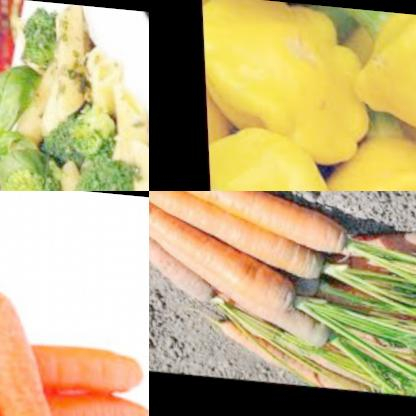broccoli: (34, 107, 112, 175), (13, 3, 61, 98), (67, 154, 141, 191), (0, 153, 57, 191)
carrot: (149, 191, 307, 314), (149, 191, 329, 283), (149, 191, 364, 258), (0, 313, 149, 400), (205, 315, 376, 387), (0, 262, 68, 416), (0, 356, 149, 416), (149, 192, 220, 304), (0, 368, 149, 416), (330, 201, 416, 272)
squash-patisson: (202, 0, 416, 191)
